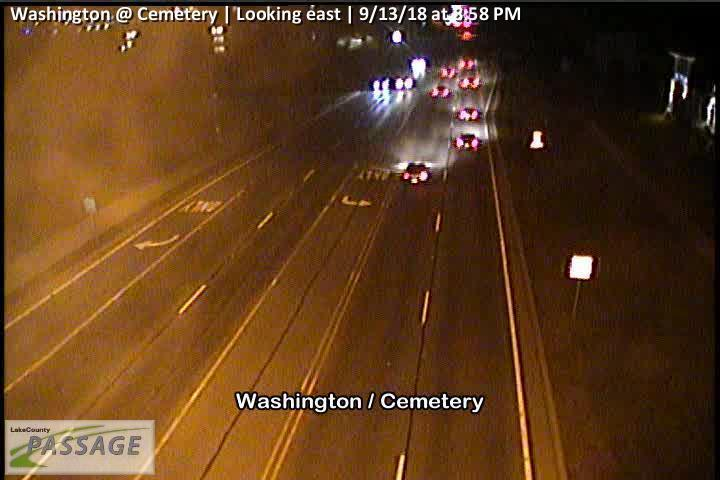Sedan: (400, 160, 431, 187), (455, 132, 479, 151), (457, 106, 482, 122), (430, 82, 451, 99), (371, 75, 392, 91), (394, 77, 417, 91)
